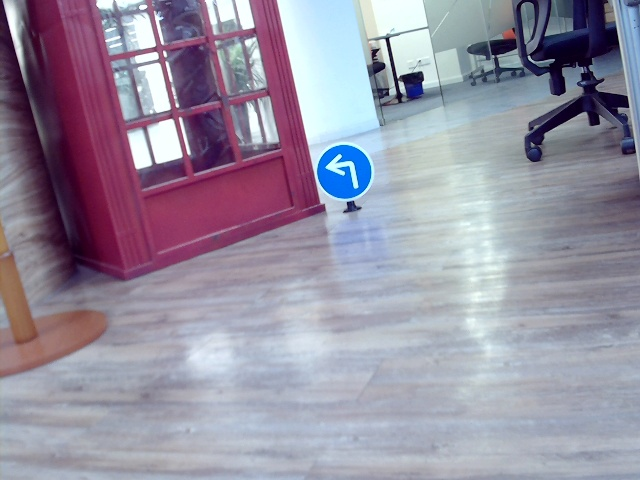turn_left: (326, 153, 359, 189)
